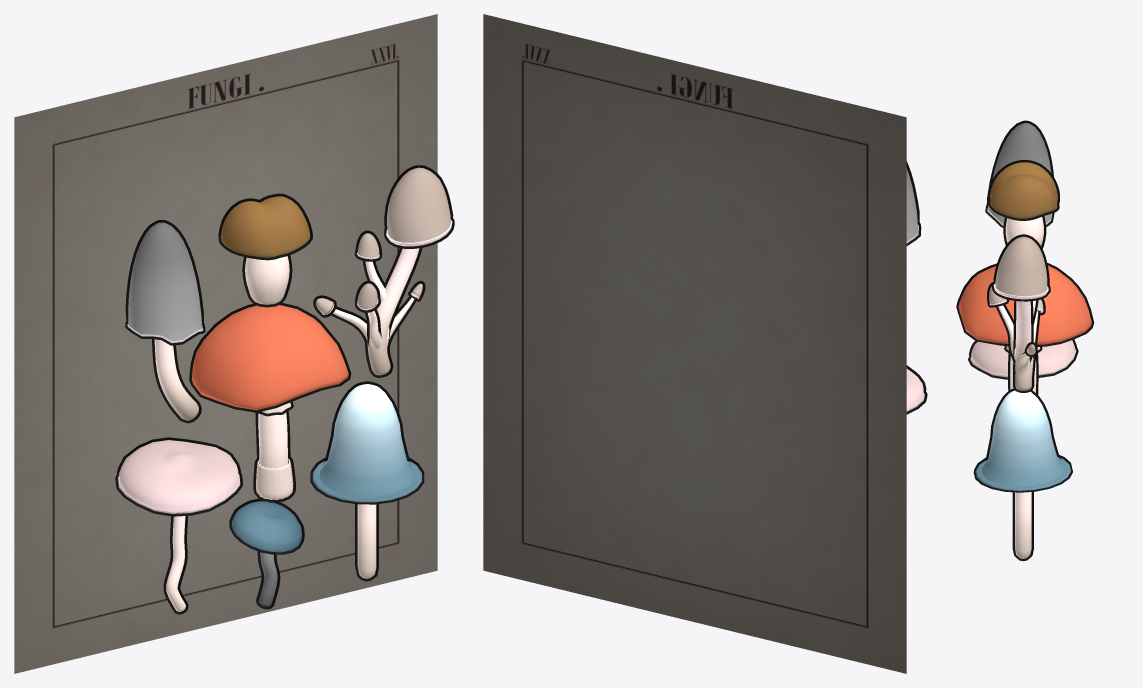
File: mushroom_poster.glb
3 renders of one model, left to right at view 1: azimuth 30°, elevation 25°; view 2: azimuth 150°, elevation 25°; view 3: azimuth 270°, elevation 25°, orthographic. The views are drawn at different scales.
Parts seen in each view (by area): view 1: Object_2, Object_3, Object_4; view 2: Object_2, Object_3; view 3: Object_3, Object_4.
Boxes of the visible parts, box(x1,y1,x2,y2) form: Object_2: box(14, 14, 437, 673); Object_3: box(117, 165, 453, 614); Object_4: box(115, 193, 454, 611); Object_2: box(483, 14, 906, 673); Object_3: box(906, 161, 926, 408); Object_3: box(958, 120, 1091, 561); Object_4: box(956, 160, 1094, 492).
Bounding box in the file's own units: 29.43 × 36.97 × 12.01.
2 materials, 2 textured.
